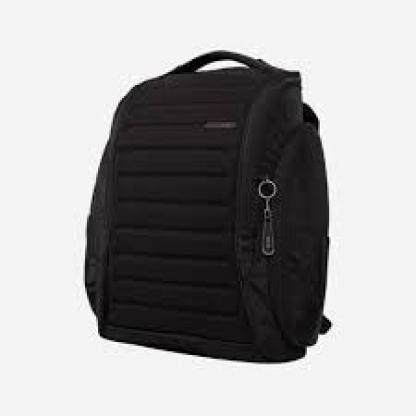morral: (74, 48, 349, 372)
